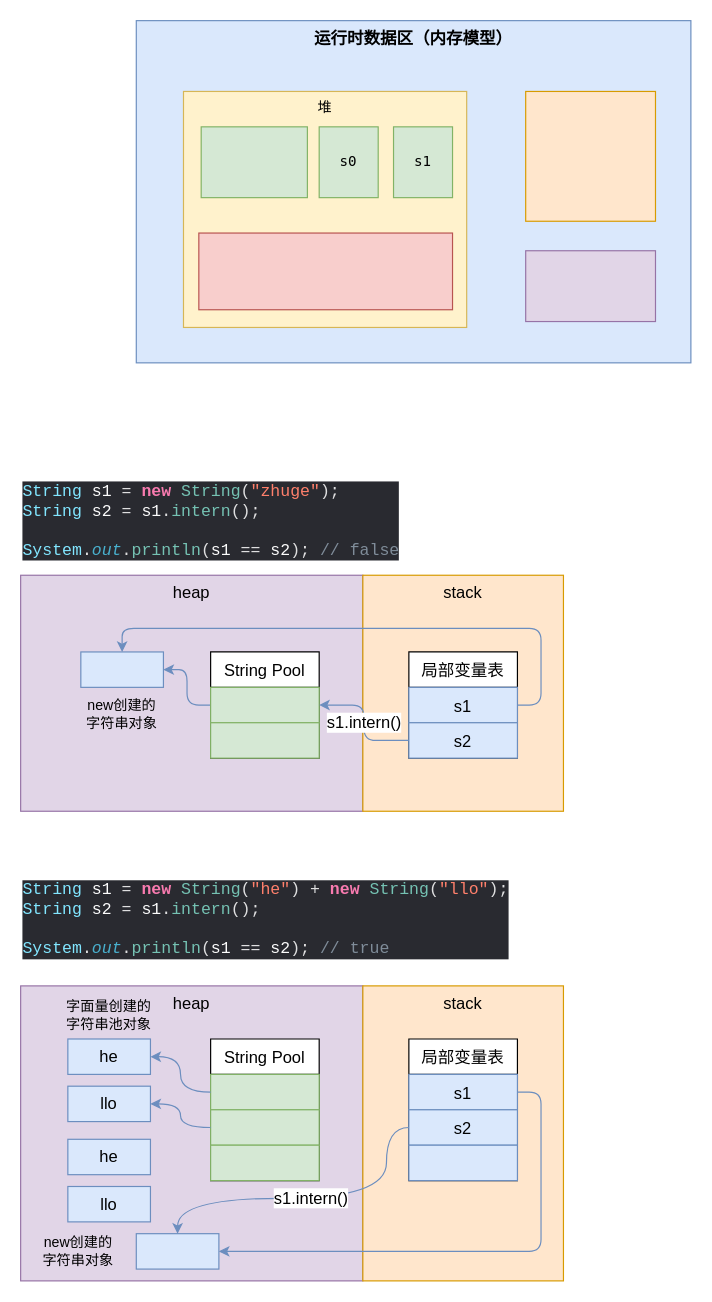
Some shapes in this 712 by 1302 pixel diagram are drawn without their labels. The centre of each missing label's shape, as x and y in pixels:
"eden" goes at (253,162).
"hello" goes at (177,1251).
"old 1G" goes at (325,271).
"zhuge" goes at (121,669).
"方法区 （256M）" goes at (590,155).
"栈（线程） -Xss 256M" goes at (590,286).
